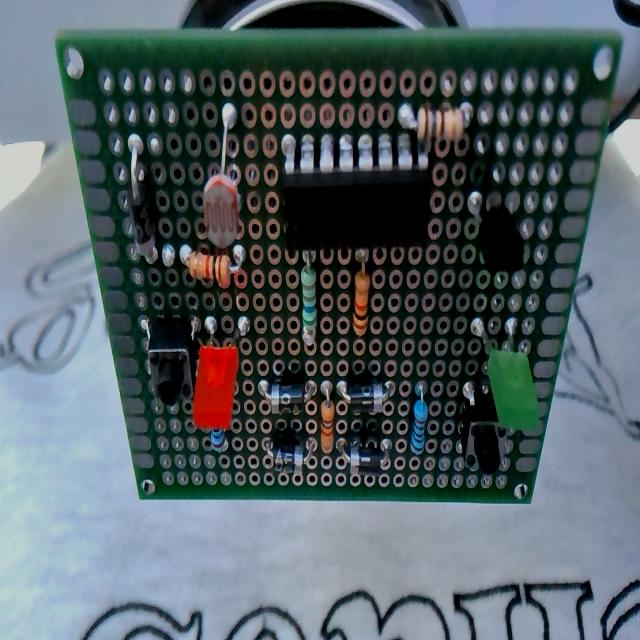IC: (279, 128, 433, 257)
cds: (202, 105, 242, 251)
diode: (126, 138, 157, 262), (336, 437, 391, 477), (337, 376, 393, 414), (262, 374, 312, 414), (266, 432, 312, 472)
led: (484, 316, 538, 434), (192, 318, 240, 442)
resistor: (182, 240, 245, 290), (414, 101, 468, 156), (300, 252, 318, 346), (353, 250, 372, 336), (411, 380, 429, 454), (320, 381, 336, 454)
switch: (148, 316, 196, 408), (458, 390, 506, 478)
transistor: (478, 198, 524, 275)
